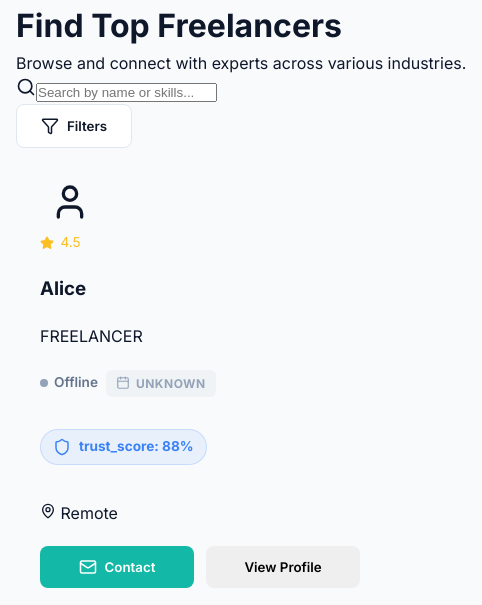
Freelancers Component › shows empty state when no freelancers match
The width and height of the screenshot is (482, 605).
Expected: the heading "Alice" is shown, [40,277,86,300]
Type "Zebra" into the field with placeholder "Search by name or skills..." at (126, 92), box [36,83,217,102]
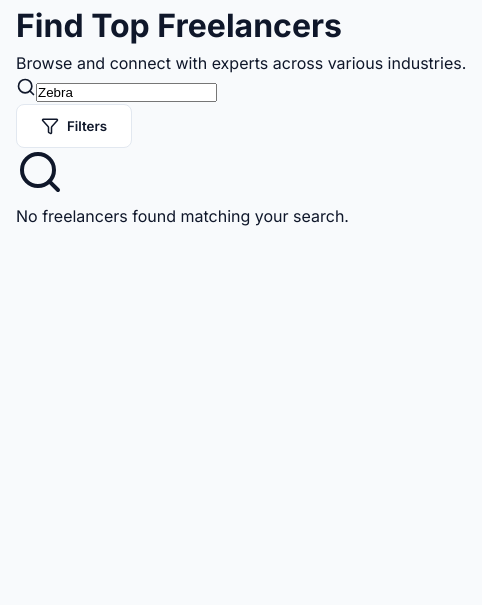
Now the text "No freelancers found matching your search." is shown, box [16,204,384,230]
